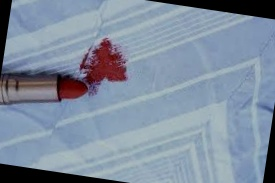lipstick: (72, 33, 131, 105)
